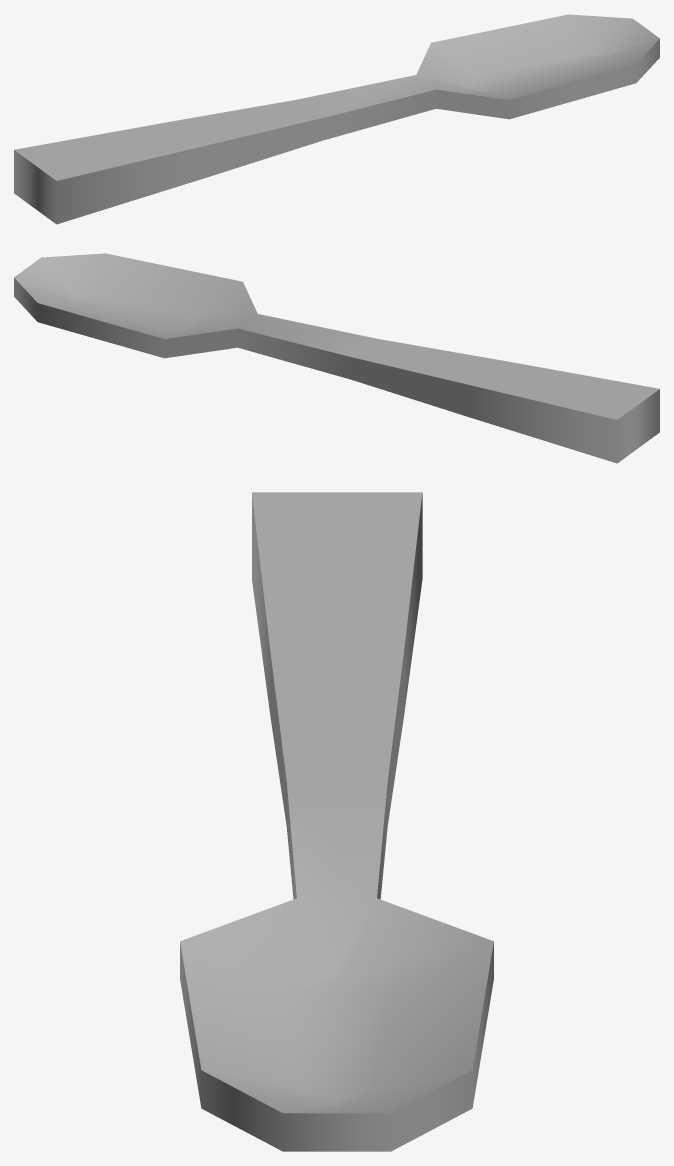
The model's file is Dest_Hall_Table_Spoon.FBX.
3 views of the same model, one above another, from view 1: azimuth 30°, elevation 25°; view 2: azimuth 150°, elevation 25°; view 3: azimuth 270°, elevation 25° (orthographic). The views are drawn at different scales.
Visible parts, largest first — view 1: Box009; view 2: Box009; view 3: Box009.
Boxes of the visible parts, x1,y1,x2,y2 form: Box009: (14, 14, 659, 224); Box009: (14, 253, 659, 463); Box009: (180, 492, 493, 1151).
Size of the model in its own units: 6.91 by 0.4698 by 1.54.
